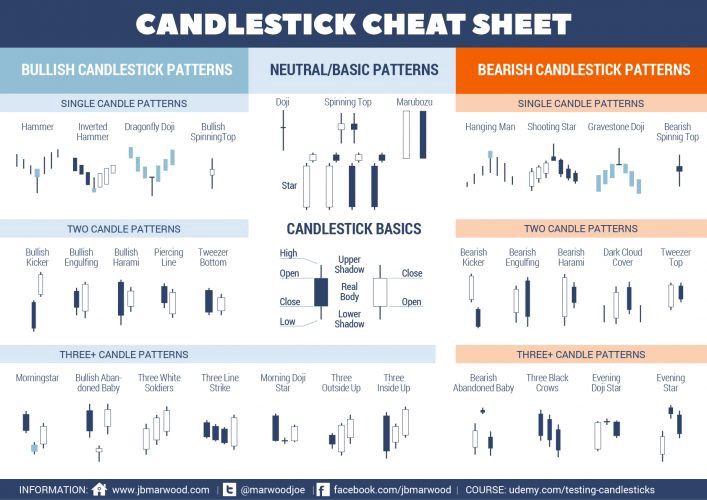3blackcrows: (534, 402, 566, 457)
3whitesoldiers: (140, 402, 174, 464)
bearishEngulfing: (510, 275, 532, 326)
bullishEngulfing: (72, 274, 92, 324)
eveningDojiStar: (595, 413, 625, 455)
eveningStar: (656, 398, 688, 459)
morningDojiStar: (270, 408, 301, 449)
morningStar: (19, 404, 51, 456)
